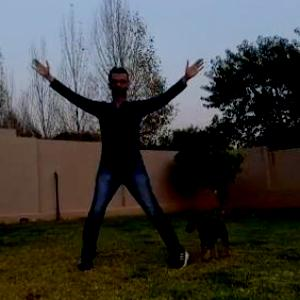takeoff: (85, 53, 243, 271)
